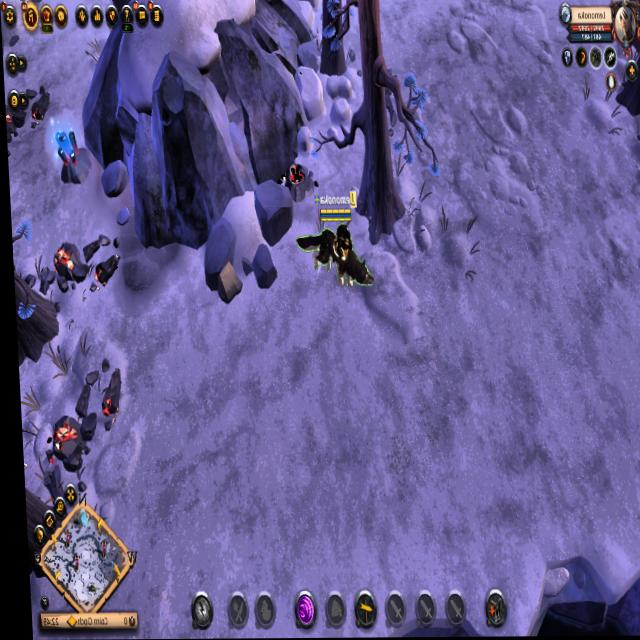ore tier 5: (52, 121, 89, 188)
rock tier 1: (212, 261, 240, 305)
